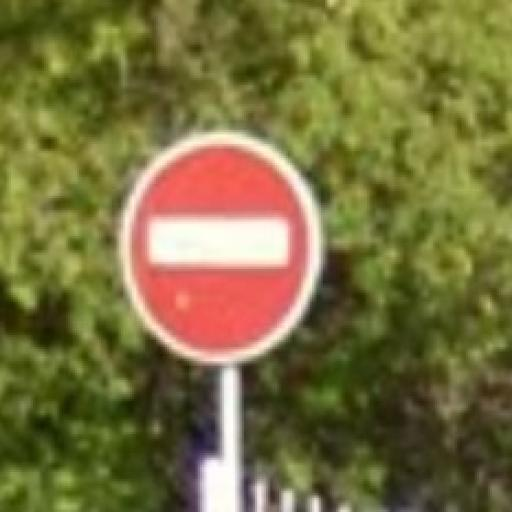traffic_sign: (120, 131, 326, 367)
